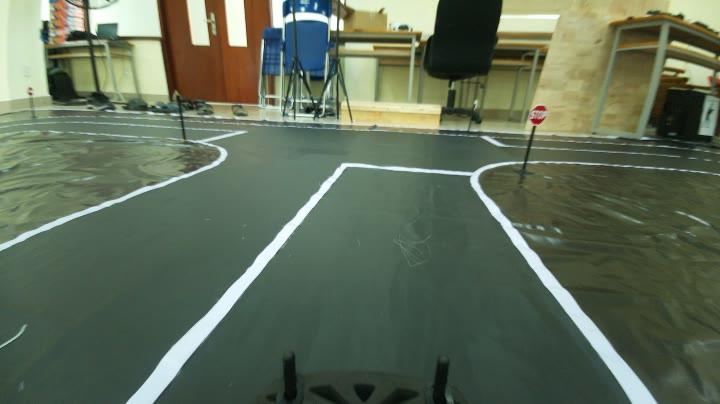stop: (528, 99, 552, 130)
